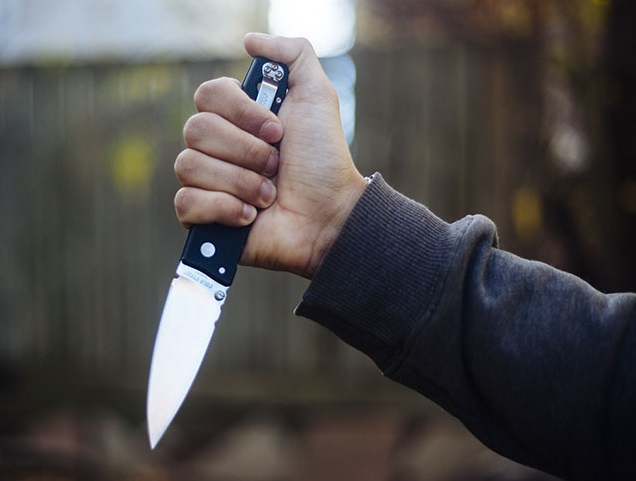knife: (136, 31, 321, 458)
